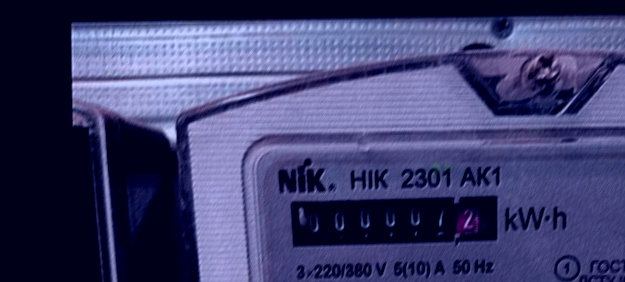0: (306, 209, 321, 233), (383, 205, 398, 228), (332, 208, 346, 231), (358, 206, 372, 229), (408, 203, 422, 226)
2: (461, 206, 475, 230)
7: (434, 203, 447, 227)
screen: (280, 185, 508, 254)
